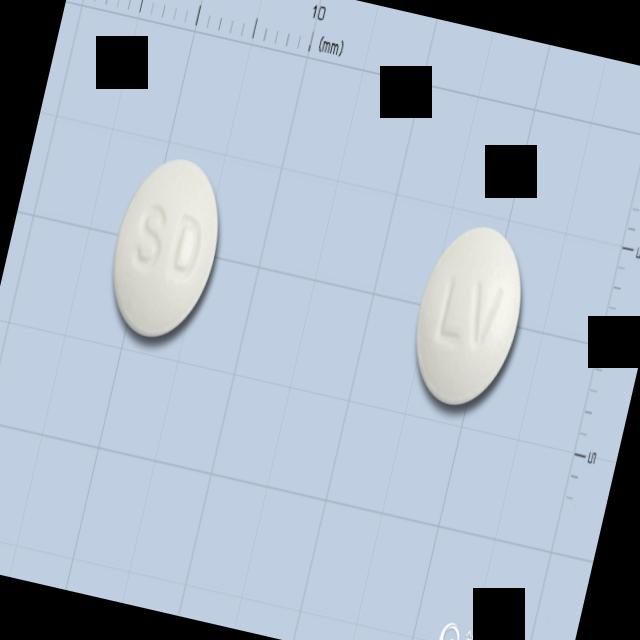Levarox: (96, 147, 234, 350), (401, 216, 538, 416)
